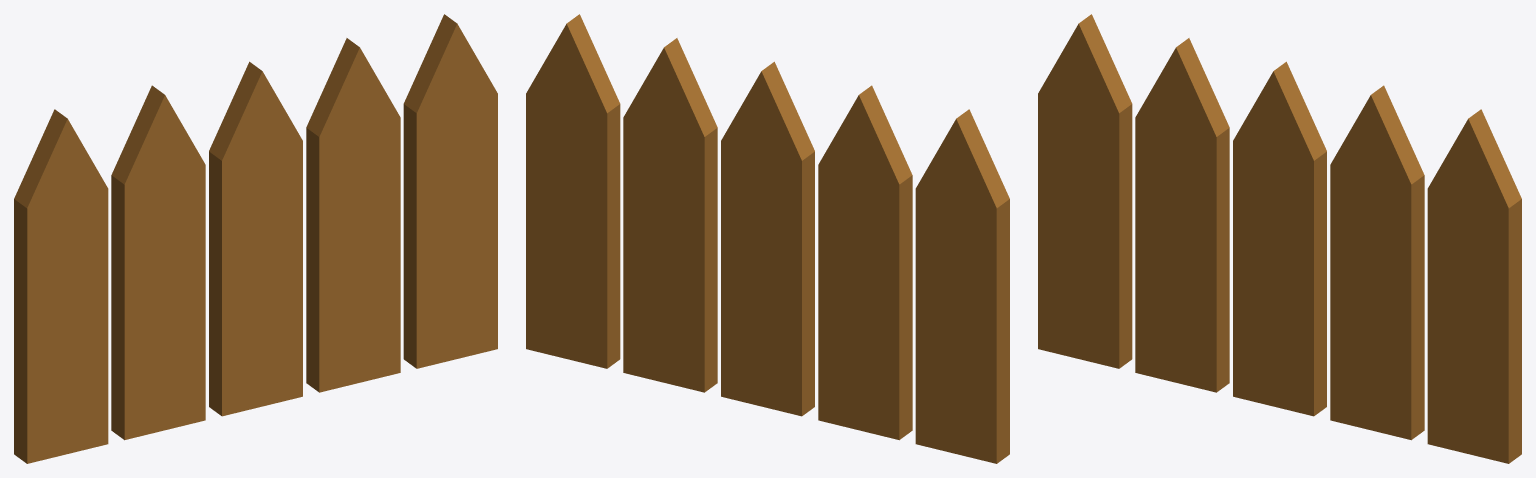
The model's file is Fence.fbx.
3 renders of one model, left to right at view 1: azimuth 30°, elevation 25°; view 2: azimuth 150°, elevation 25°; view 3: azimuth 330°, elevation 25°, orthographic.
Parts seen in each view (by area): view 1: Fence; view 2: Fence; view 3: Fence.
Part boxes in pixels (box(x1,y1,x2,y2)): Fence: box(14, 14, 497, 463); Fence: box(526, 14, 1009, 463); Fence: box(1038, 14, 1521, 463).
Size of the model in its own units: 128 by 87.04 by 6.17.
